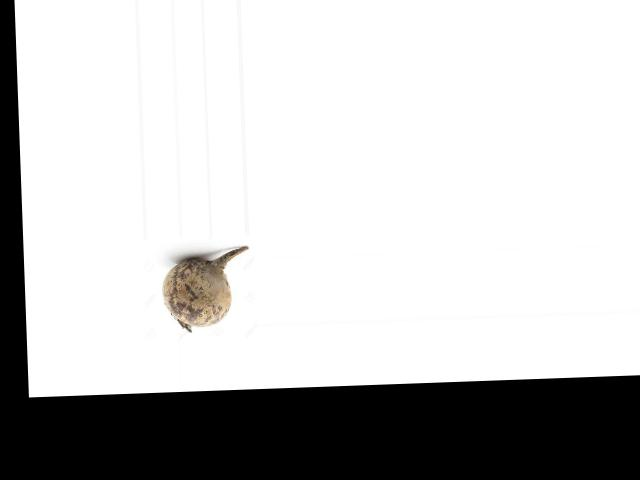beet: (160, 246, 250, 333)
